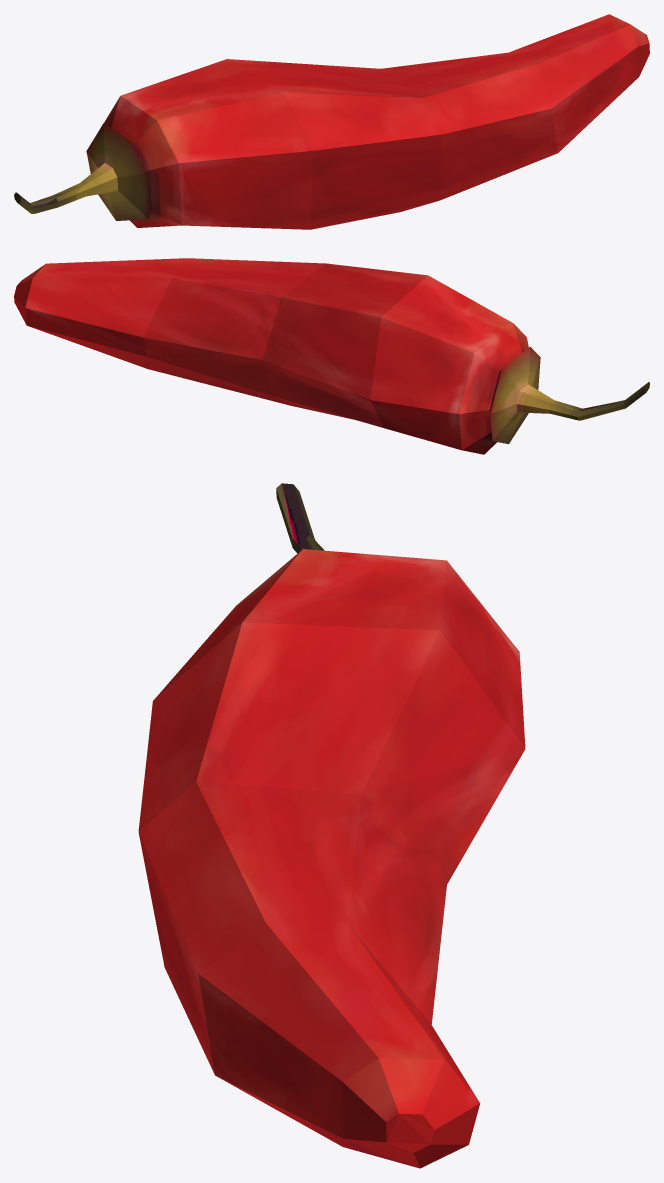
The model's file is picante.glb.
3 renders of one model, top to bottom at view 1: azimuth 30°, elevation 25°; view 2: azimuth 150°, elevation 25°; view 3: azimuth 270°, elevation 25°, orthographic. The views are drawn at different scales.
Visible parts, largest first — view 1: Plane; view 2: Plane; view 3: Plane.
Part boxes in pixels (x1,y1,x2,y2): Plane: [14, 14, 649, 229]; Plane: [14, 258, 649, 454]; Plane: [138, 483, 525, 1168].
Bounding box in the file's own units: 14.58 × 3.47 × 4.08.
1 material, 1 textured.
